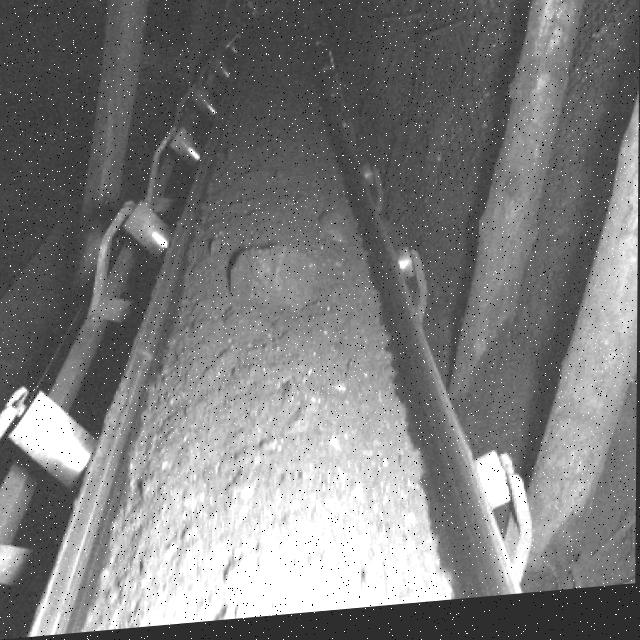large_sized_coal: (228, 246, 319, 321), (315, 215, 356, 254)
